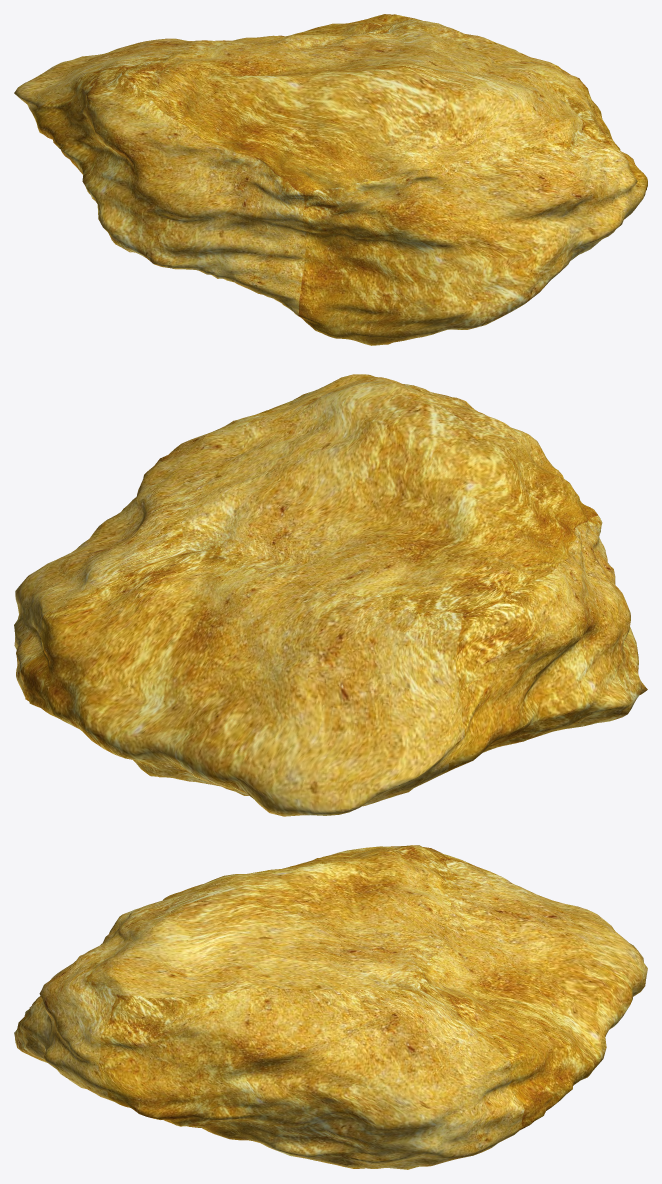
The model's file is Gold1.FBX.
The picture shows the model from 3 angles, top to bottom: view 1: azimuth 30°, elevation 25°; view 2: azimuth 150°, elevation 25°; view 3: azimuth 270°, elevation 25°; orthographic projection. The views are drawn at different scales.
Visible parts, largest first — view 1: Rock001; view 2: Rock001; view 3: Rock001.
Boxes of the visible parts, left/top/right/bottom form: Rock001: left=14, top=14, right=647, bottom=345; Rock001: left=14, top=374, right=647, bottom=816; Rock001: left=14, top=845, right=647, bottom=1169.
Size of the model in its own units: 223 by 107 by 272.
Materials: 1 (1 with a texture image).
